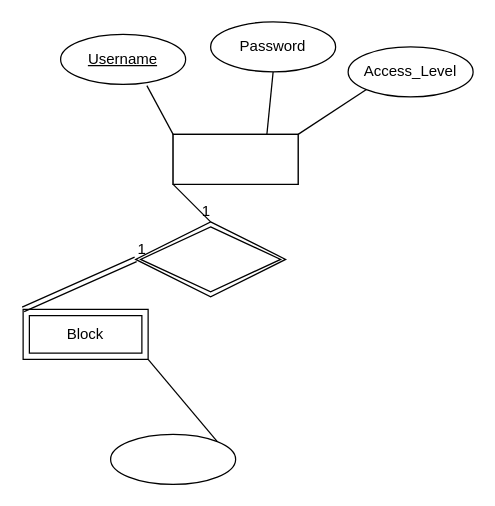
This 495x506 diagram has some shape labels left out. The centre of each missing label's shape, as x and y in pixels:
Blocked: point (210, 259)
Date: point (172, 458)
Users: point (235, 158)
